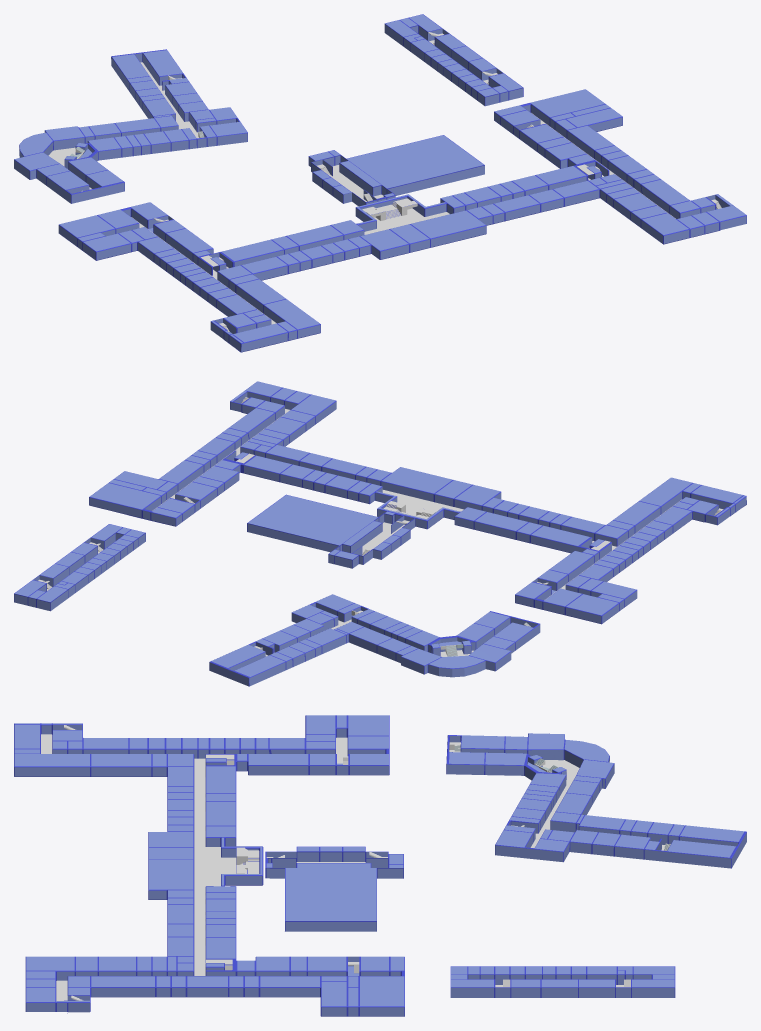
The model's file is dstu-3.glb.
3 views of the same model, one above another, from view 1: azimuth 30°, elevation 25°; view 2: azimuth 150°, elevation 25°; view 3: azimuth 270°, elevation 25° (orthographic). The views are drawn at different scales.
Parts seen in each view (by area): view 1: Plane.004, Plane.010, K3, 3, Plane.003; view 2: Plane.004, Plane.010, K3, 3; view 3: Plane.004, Plane.010, K3, 3, Plane.003.
Boxes of the visible parts, x1,y1,x2,y2 form: Plane.004: (58, 89, 746, 352); Plane.010: (14, 49, 247, 203); K3: (308, 135, 484, 206); 3: (384, 14, 523, 106); Plane.003: (362, 198, 417, 220); Plane.004: (89, 381, 746, 624); Plane.010: (209, 594, 540, 686); K3: (247, 494, 415, 568); 3: (14, 524, 145, 611); Plane.004: (14, 715, 404, 1016); Plane.010: (446, 733, 746, 868); K3: (265, 846, 403, 931); 3: (450, 966, 675, 997); Plane.003: (236, 847, 259, 873).
Bounding box in the file's own units: 180 × 4.62 × 191.
